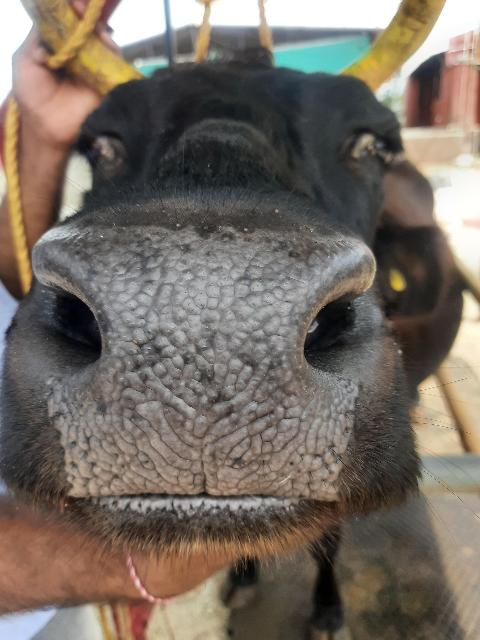Muzzle: (92, 235, 300, 495)
